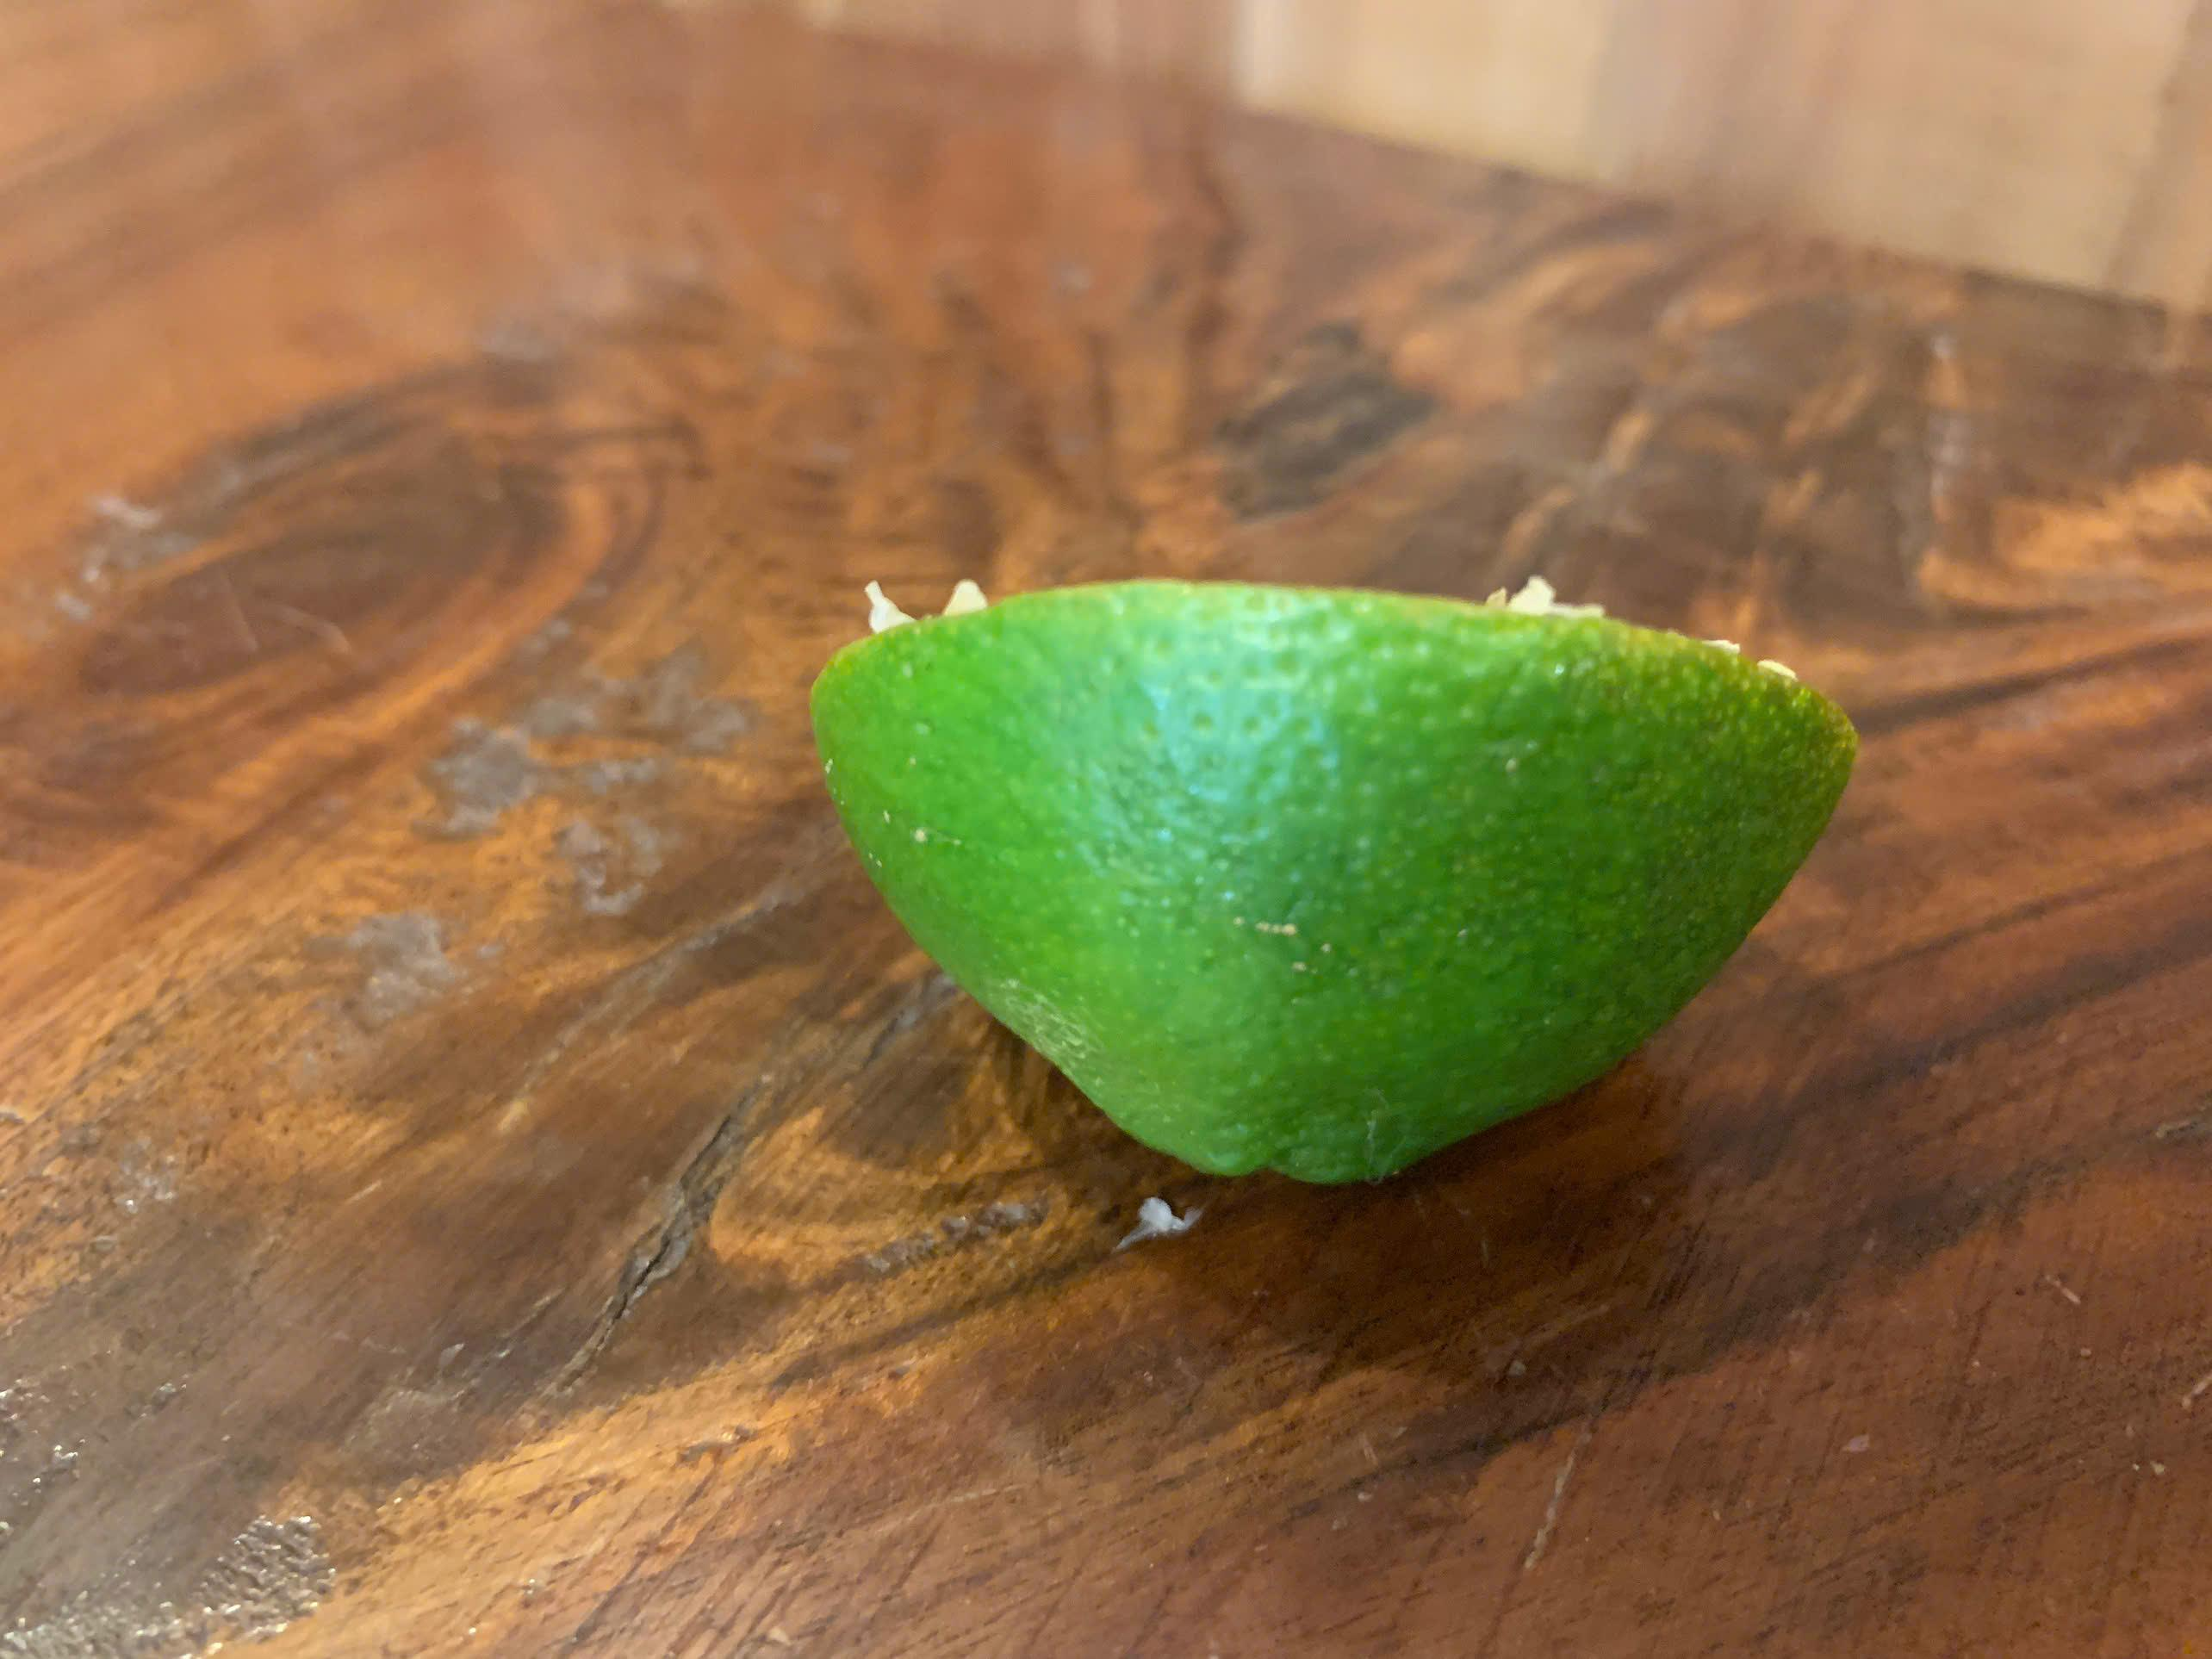Huu co: (813, 580, 1858, 1192)
